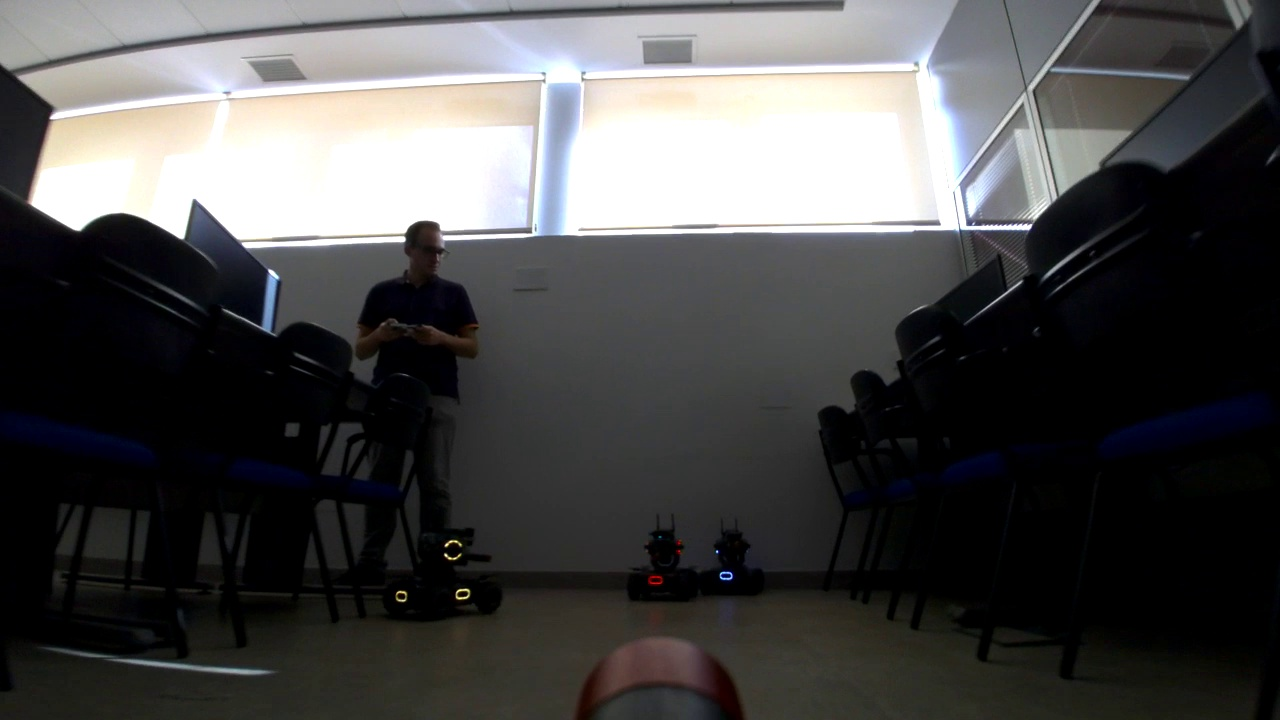robot: (382, 524, 504, 616), (627, 513, 698, 602), (694, 517, 766, 595)
